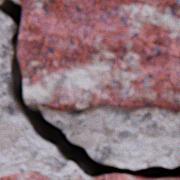brick: (18, 0, 179, 112), (0, 173, 49, 179), (92, 174, 140, 179)
crack: (0, 0, 179, 179)
